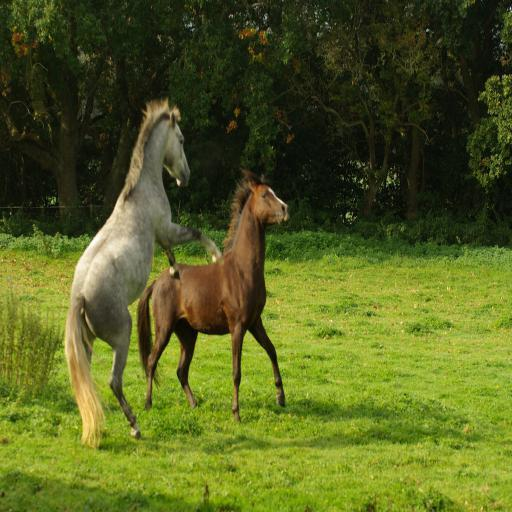Horse: (64, 94, 222, 452), (137, 168, 289, 428)
